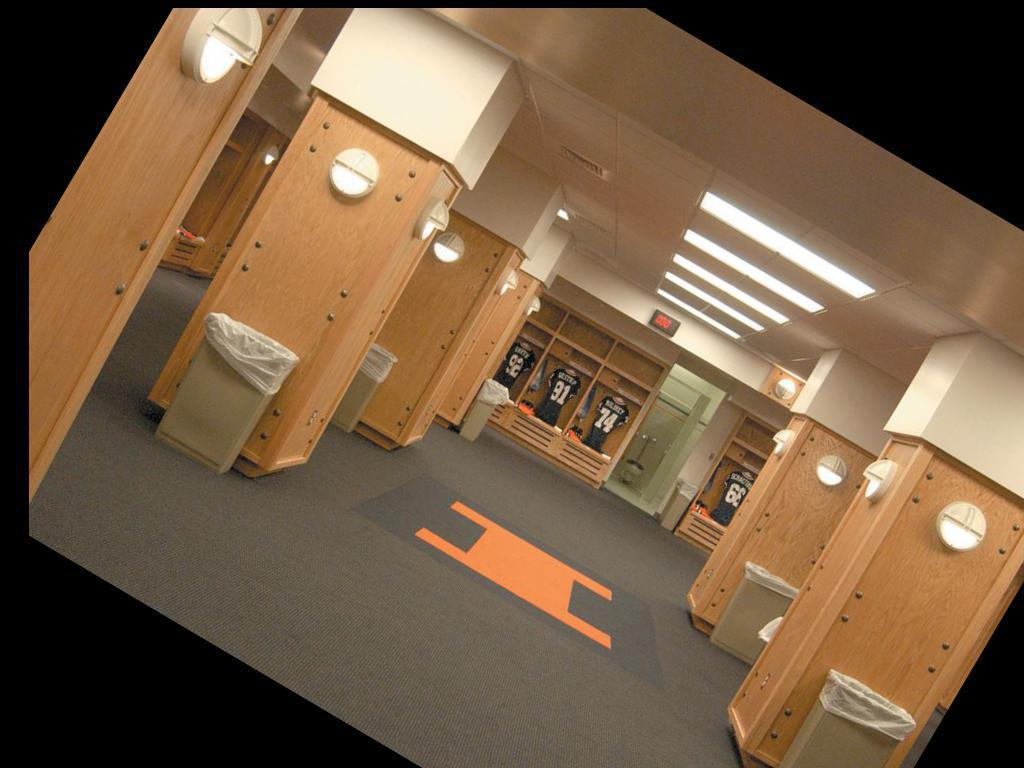Bote de Basura: (145, 305, 305, 482), (755, 668, 917, 768), (706, 557, 804, 667), (330, 347, 401, 442), (454, 378, 511, 447)
